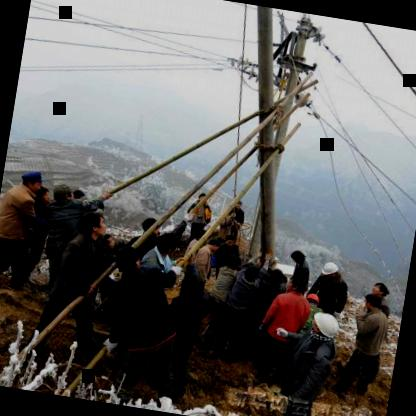head: (110, 241, 148, 274), (73, 207, 110, 239), (180, 268, 212, 298), (154, 227, 184, 257), (18, 164, 46, 193), (281, 270, 308, 298), (46, 179, 76, 204), (136, 212, 162, 238), (264, 262, 287, 288), (242, 259, 264, 285), (34, 184, 56, 206), (362, 291, 384, 313), (220, 250, 244, 270), (201, 236, 222, 254), (288, 247, 306, 266), (372, 280, 390, 298), (221, 232, 238, 249)
helmet: (307, 306, 344, 347), (318, 257, 342, 280)
